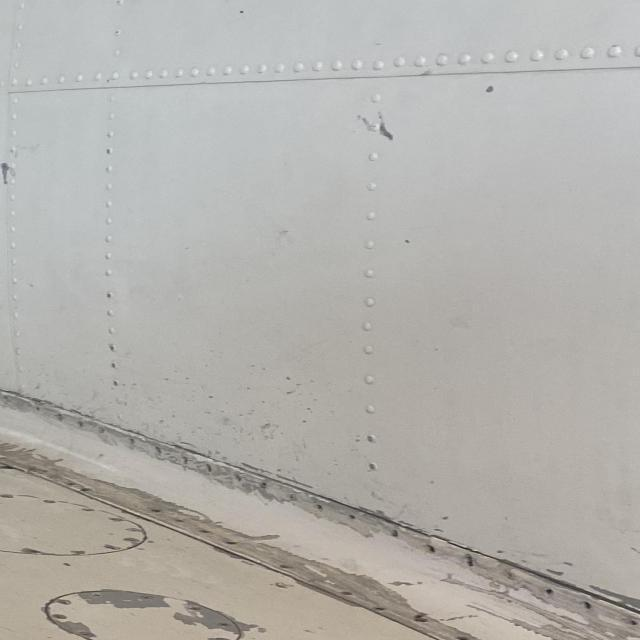Paint-off: (79, 591, 175, 612), (359, 109, 397, 140), (173, 612, 203, 628), (0, 161, 16, 185), (483, 83, 501, 96)
Scratch: (0, 442, 439, 633), (430, 569, 640, 640)
